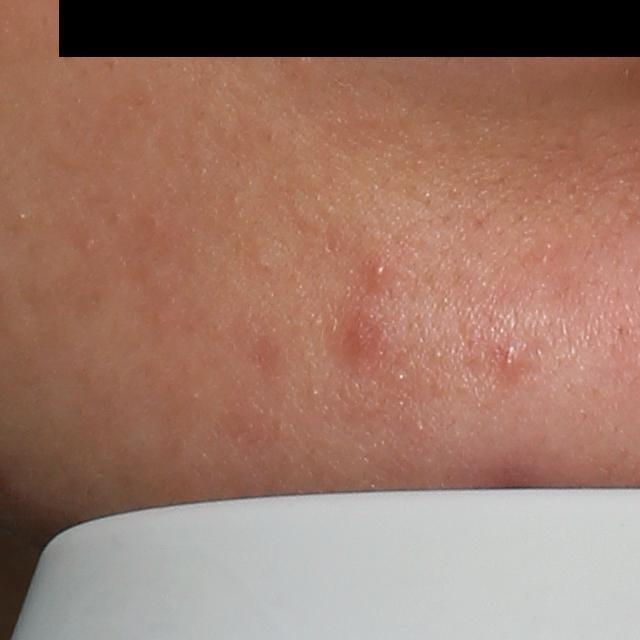papule: (341, 314, 382, 362), (496, 339, 532, 377), (365, 256, 395, 290)
